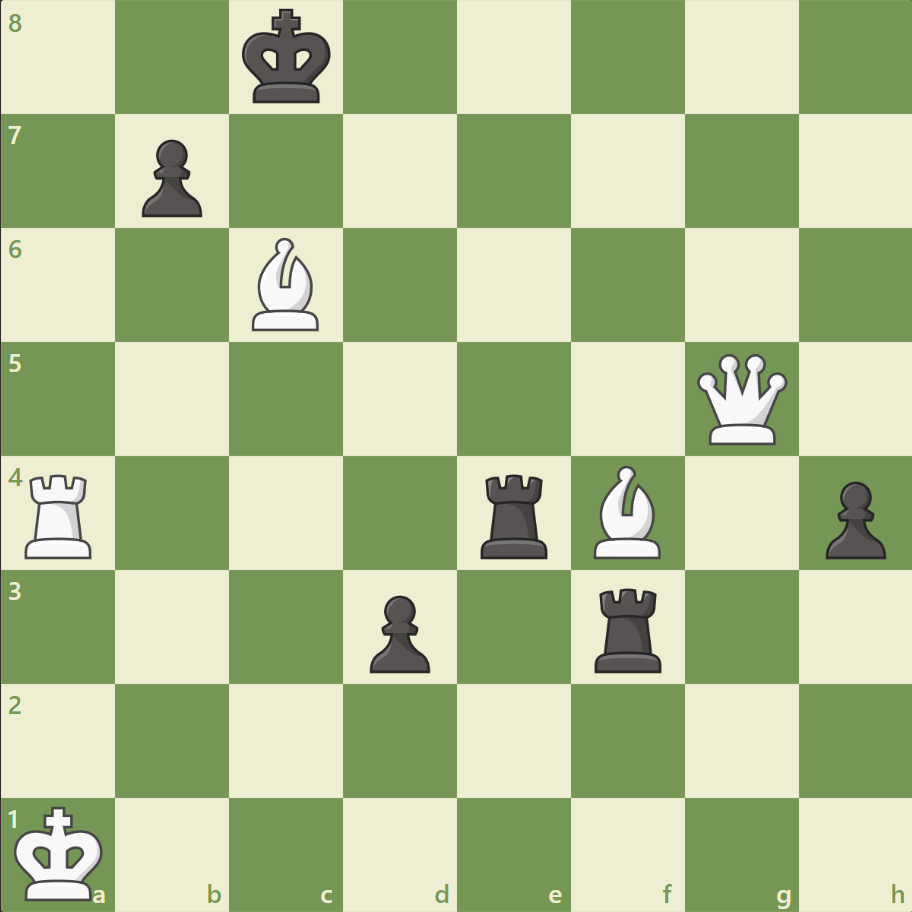B: (244, 233, 328, 336), (585, 460, 669, 563)
K: (11, 798, 111, 906)
Q: (691, 349, 790, 449)
R: (19, 466, 102, 563)
k: (238, 4, 338, 112)
p: (133, 132, 208, 223), (815, 473, 889, 564), (361, 586, 435, 677)
r: (473, 466, 556, 563), (587, 579, 670, 676)
